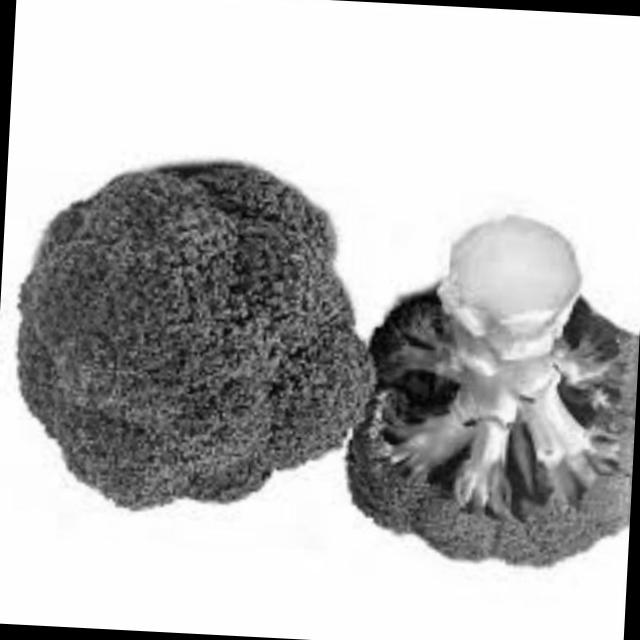broccoli: (0, 142, 400, 559), (326, 198, 640, 604)
